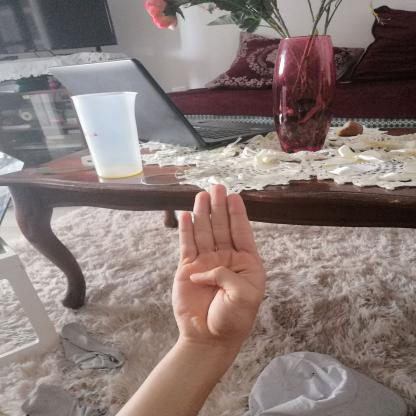KAAF: (155, 176, 282, 357)
